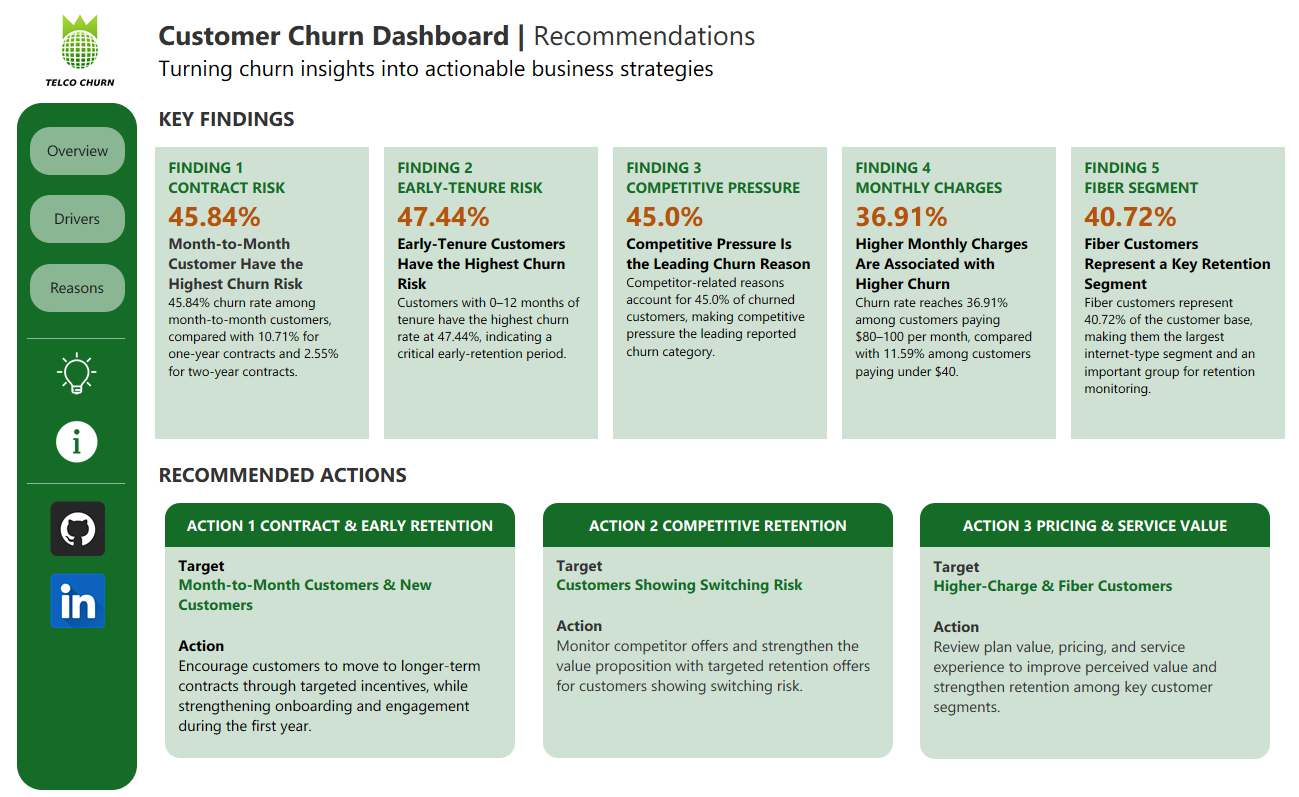

The dashboard page shown, as its layout file describes it:
{"tool":"tableau","page":{"name":"Recommendations","canvas":[1300,800],"ordinal":4},"visuals":[{"type":"image","param":"Image/logo telco churn.png","box":[12,3,135,99]},{"type":"title","box":[155,12,1145,76]},{"type":"blank","box":[17,104,120,687]},{"type":"text","box":[155,104,142,30]},{"type":"dashboard-object","box":[30,128,95,48]},{"type":"text","box":[155,148,214,292]},{"type":"text","box":[384,148,214,292]},{"type":"text","box":[613,148,214,292]},{"type":"text","box":[842,148,214,292]},{"type":"text","box":[1071,148,214,292]},{"type":"dashboard-object","box":[30,196,95,48]},{"type":"dashboard-object","box":[30,265,95,48]},{"type":"blank","box":[27,339,98,1]},{"type":"dashboard-object","box":[54,352,45,45]},{"type":"dashboard-object","box":[54,420,45,45]},{"type":"text","box":[155,460,260,30]},{"type":"blank","box":[27,484,98,1]},{"type":"image","param":"Image/github.png","box":[50,502,55,55]},{"type":"text","box":[165,504,350,255]},{"type":"text","box":[165,504,350,44]},{"type":"text","box":[543,504,350,255]},{"type":"text","box":[543,504,350,44]},{"type":"text","box":[920,504,350,44]},{"type":"text","box":[920,505,350,255]},{"type":"image","param":"Image/linkedin.png","box":[50,574,55,55]}]}

Visuals, with their boxes in screenshot pixels (x1, y1, x2, y2), scaled from the page's 1300x800 canvas onto the 1299x797 screenshot:
image: (left=12, top=3, right=147, bottom=102)
title: (left=155, top=12, right=1298, bottom=88)
blank: (left=17, top=104, right=137, bottom=788)
text: (left=155, top=104, right=297, bottom=133)
dashboard-object: (left=30, top=128, right=125, bottom=175)
text: (left=155, top=147, right=369, bottom=438)
text: (left=384, top=147, right=598, bottom=438)
text: (left=613, top=147, right=826, bottom=438)
text: (left=841, top=147, right=1055, bottom=438)
text: (left=1070, top=147, right=1284, bottom=438)
dashboard-object: (left=30, top=195, right=125, bottom=243)
dashboard-object: (left=30, top=264, right=125, bottom=312)
blank: (left=27, top=338, right=125, bottom=339)
dashboard-object: (left=54, top=351, right=99, bottom=396)
dashboard-object: (left=54, top=418, right=99, bottom=463)
text: (left=155, top=458, right=415, bottom=488)
blank: (left=27, top=482, right=125, bottom=483)
image: (left=50, top=500, right=105, bottom=555)
text: (left=165, top=502, right=515, bottom=756)
text: (left=165, top=502, right=515, bottom=546)
text: (left=543, top=502, right=892, bottom=756)
text: (left=543, top=502, right=892, bottom=546)
text: (left=919, top=502, right=1269, bottom=546)
text: (left=919, top=503, right=1269, bottom=757)
image: (left=50, top=572, right=105, bottom=627)
